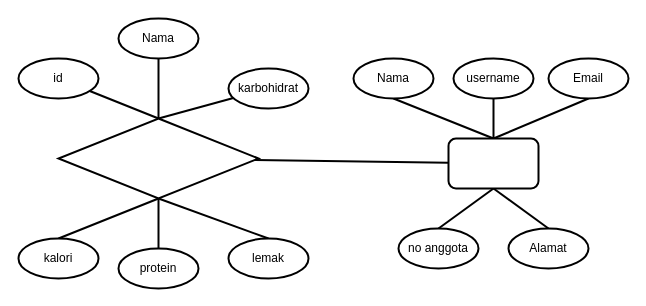
Image size: 646x306. Some labels were removed from this diagram. The centre of each missing label's shape, as x and y in pixels:
Member: the point at 493,163
Rekomendasi makanan: the point at 158,158
